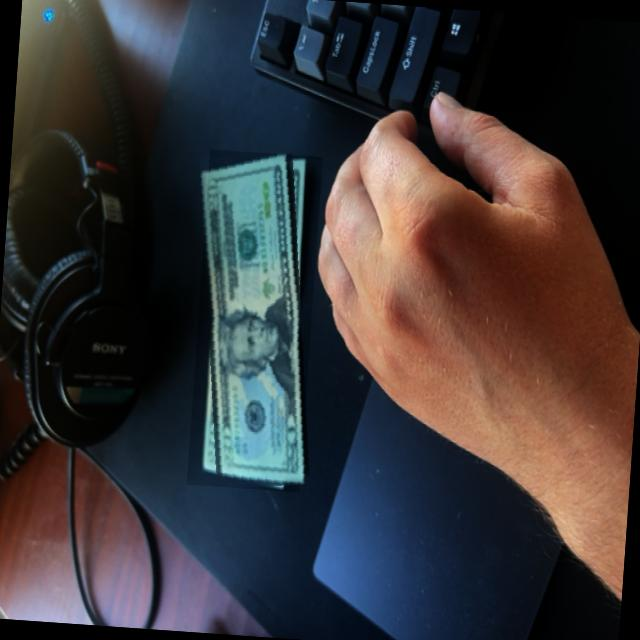twenty: (187, 149, 323, 492)
